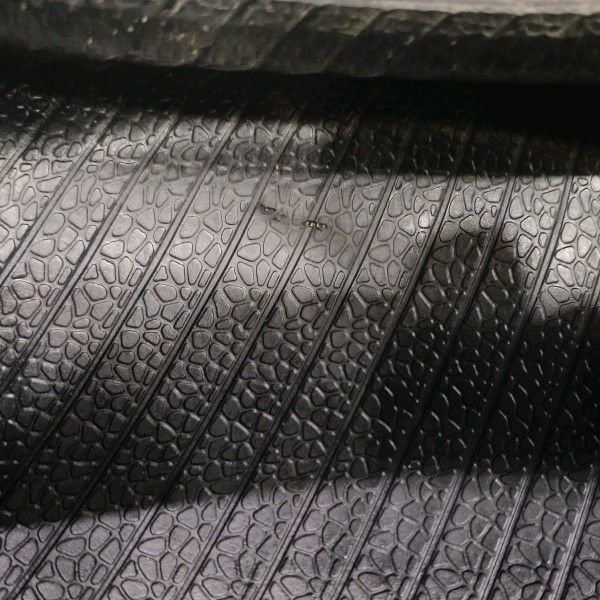CBU: (253, 199, 354, 250)
